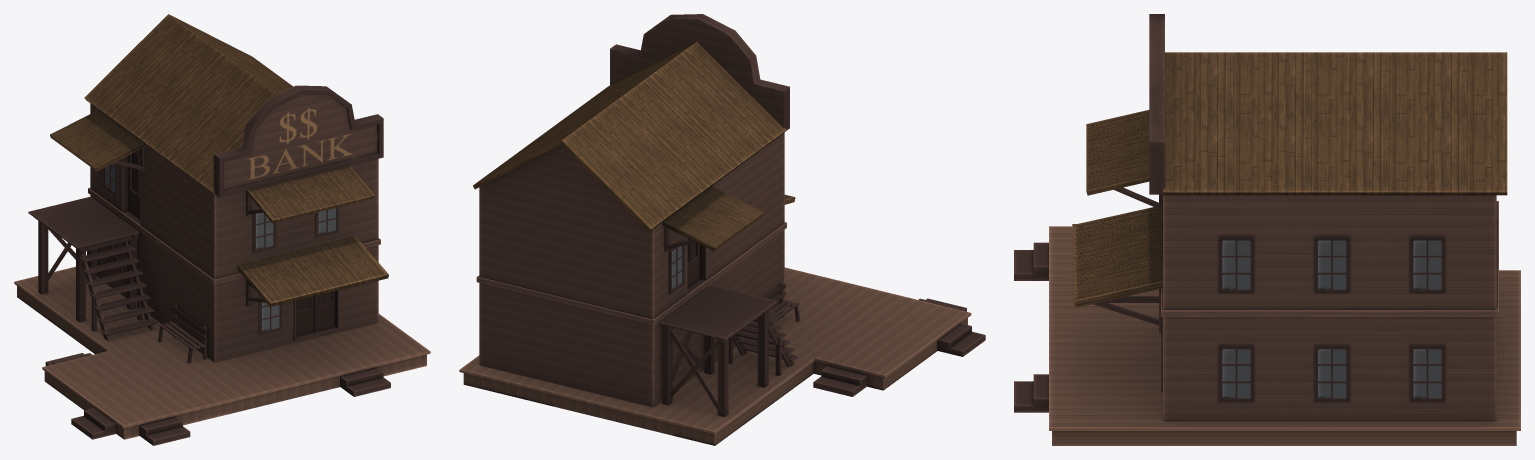
The model's file is Bank3.fbx.
3 renders of one model, left to right at view 1: azimuth 30°, elevation 25°; view 2: azimuth 150°, elevation 25°; view 3: azimuth 270°, elevation 25°, orthographic. The views are drawn at different scales.
Parts seen in each view (by area): view 1: Building_7; view 2: Building_7; view 3: Building_7.
Boxes of the visible parts, x1,y1,x2,y2 form: Building_7: (14,14,430,445); Building_7: (459,14,985,445); Building_7: (1014,14,1520,445).
Size of the model in its own units: 333 by 262 by 330.
